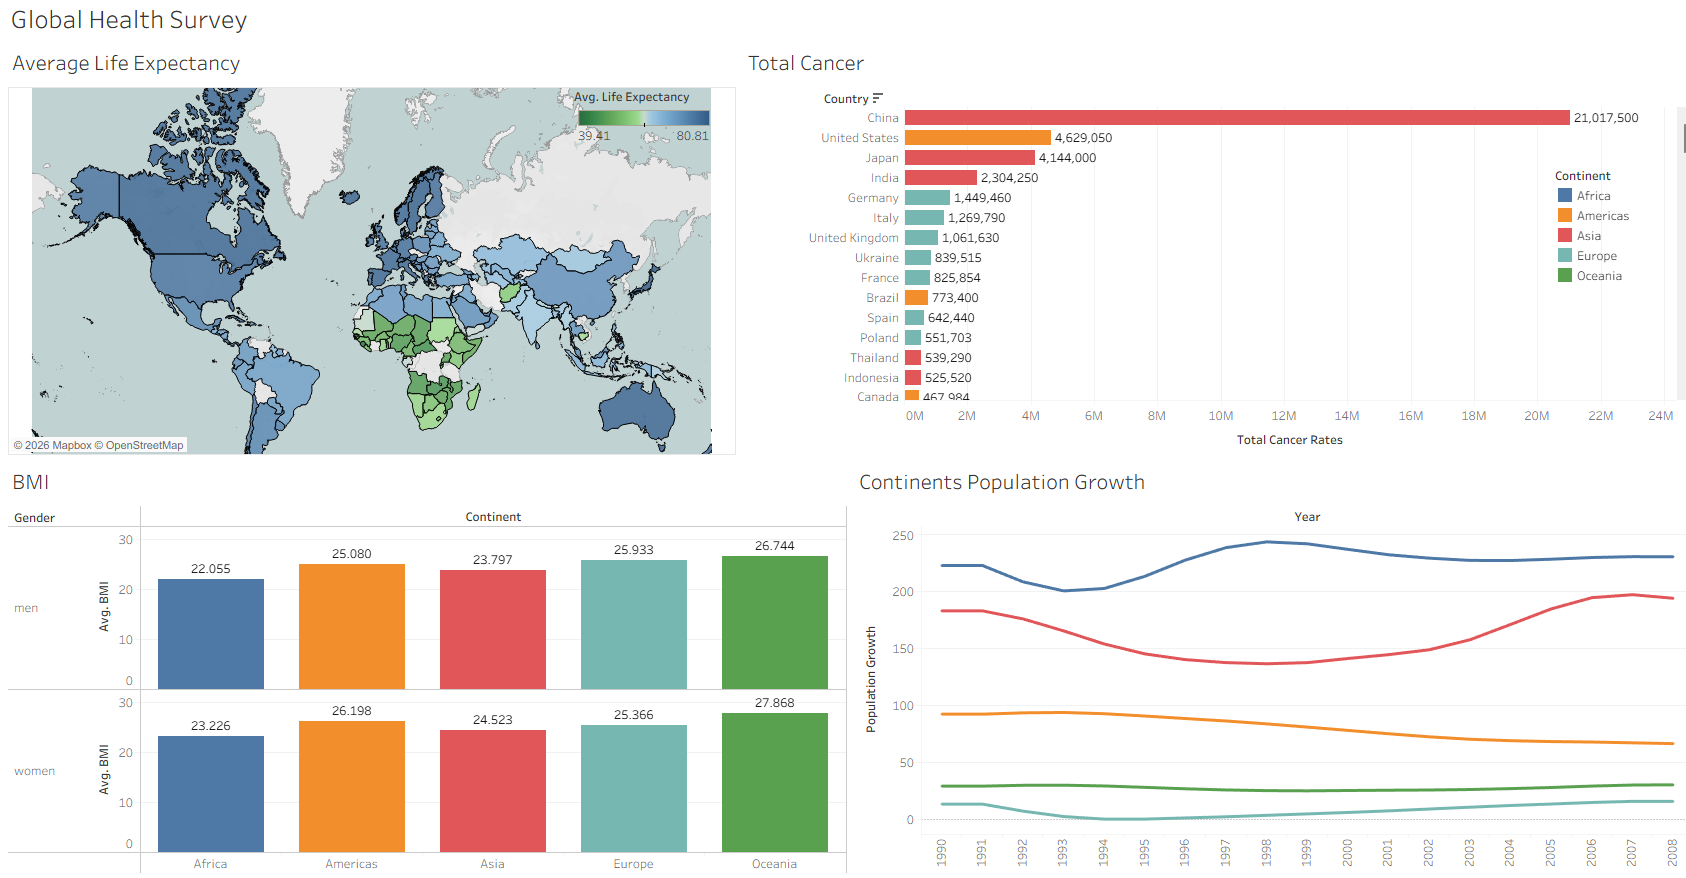

Layout of this report page (visuals, bound fields, positions):
{"tool":"tableau","page":{"name":"Health Survey","canvas":[1000,1000],"units":"permille","ordinal":0},"visuals":[{"type":"title","box":[4.7,8.9,990.6,46.9]},{"type":"worksheet","title":"Average Life Expectancy","mark":"Automatic","box":[4.7,55.8,430.6,467.6]},{"type":"worksheet","title":"Country Total Cancer","mark":"Automatic","rows":["Country"],"cols":["Calculation_1741661950181376"],"box":[435.3,55.8,560,467.6]},{"type":"legend","title":"Average Life Expectancy","param":"[federated.1vwc61e0gepmc311qbgl801tlgmw].[avg:Life Expectancy:qk]","box":[338.2,109.4,81.9,84.8]},{"type":"legend","title":"Country Total Cancer","param":"[federated.1vwc61e0gepmc311qbgl801tlgmw].[none:Continent:nk]","box":[912.2,197.5,55,131.7]},{"type":"worksheet","title":"BMI","mark":"Automatic","rows":["Gender","BMI"],"cols":["Continent"],"box":[4.7,523.4,495.3,467.6]},{"type":"worksheet","title":"Continents Population Growth","mark":"Line","rows":["Population Growth"],"cols":["Year"],"box":[500,523.4,495.3,467.6]}]}

Visuals, with their boxes on the dashboard's canvas, which has no fixed pixel size, in thousandths of its width and height (x1, y1, x2, y2). These are canvas units, not pixel positions in the 1686x878 screenshot, which may show the page scaled, cropped or inside an application window:
title: l=5, t=9, r=995, b=56
"Average Life Expectancy" worksheet: l=5, t=56, r=435, b=523
"Country Total Cancer" worksheet: l=435, t=56, r=995, b=523
"Average Life Expectancy" legend: l=338, t=109, r=420, b=194
"Country Total Cancer" legend: l=912, t=198, r=967, b=329
"BMI" worksheet: l=5, t=523, r=500, b=991
"Continents Population Growth" worksheet (Line marks): l=500, t=523, r=995, b=991
